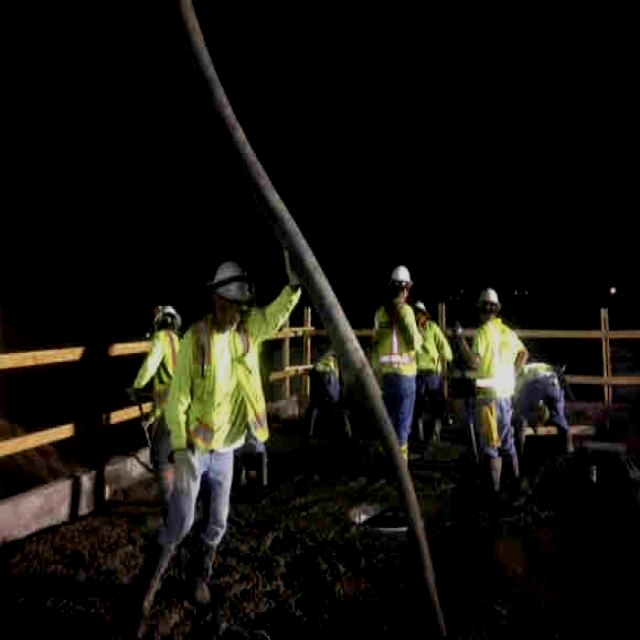Con_Chaleco: (186, 319, 271, 454), (374, 305, 422, 375), (475, 323, 517, 397)
